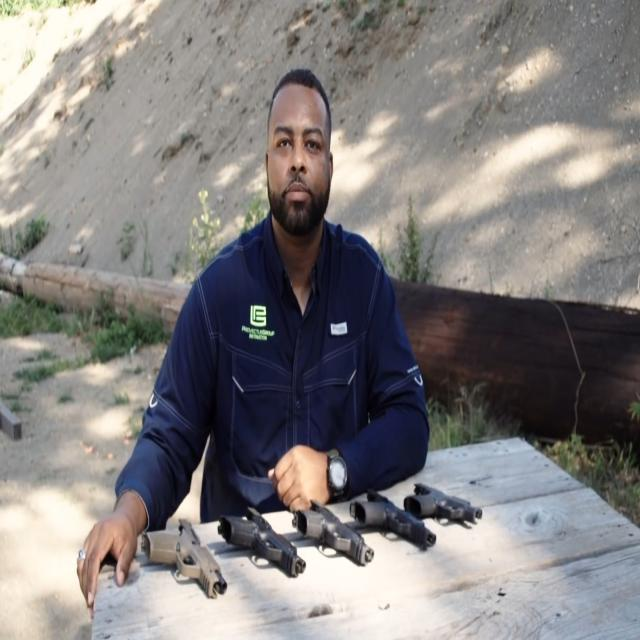handgun: (135, 510, 235, 606), (209, 498, 305, 584), (353, 477, 436, 568), (292, 495, 376, 571), (398, 475, 481, 549)
